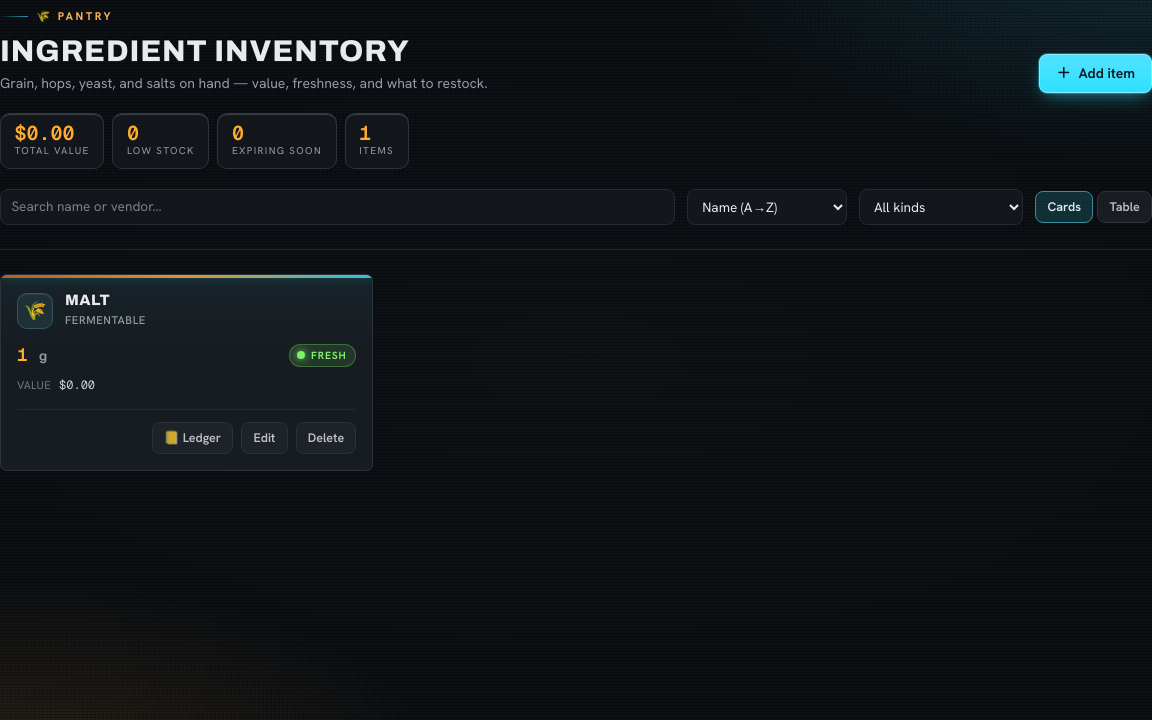
Test: InventoryView › kind-filtered empty keeps the text-only treatment (no brand scene)
expect the heading "Malt" is shown: met, box [65, 292, 110, 308]
Select "🌿 Hop" in the dropdown named "Filter by kind" at {"x": 941, "y": 207}, box [858, 189, 1023, 225]
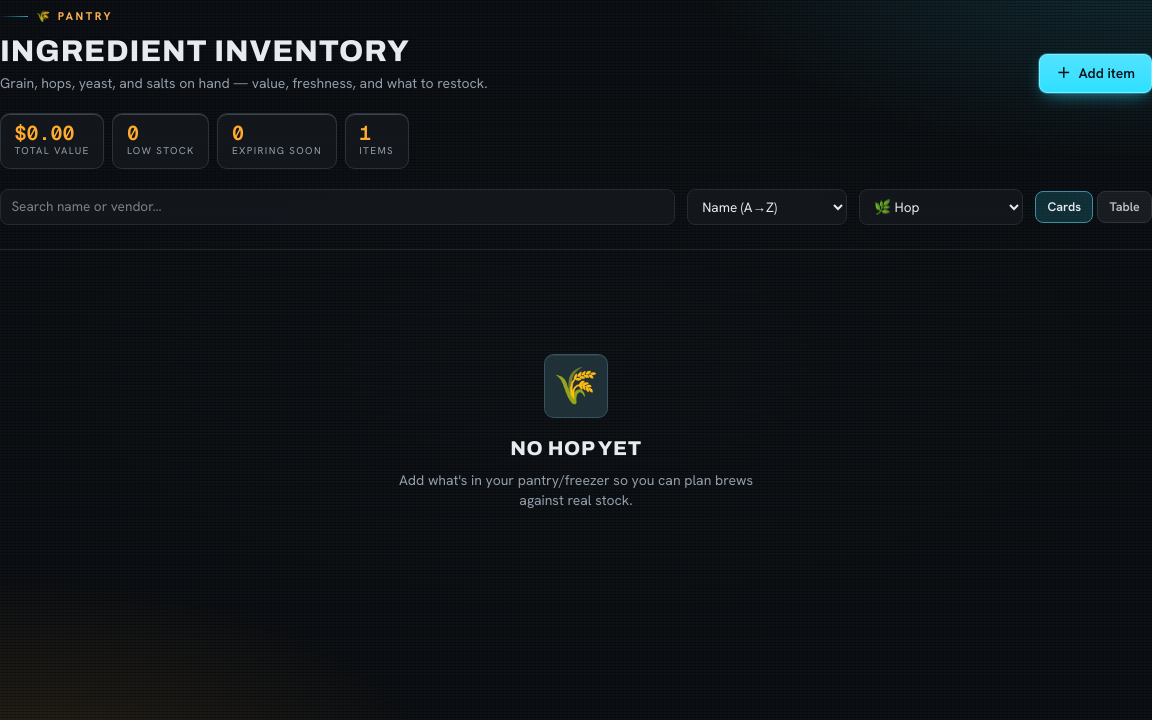
expect the text "🌾" is shown: met, box [544, 354, 608, 418]
expect the heading "No Hop yet" is shown: met, box [510, 434, 642, 462]
